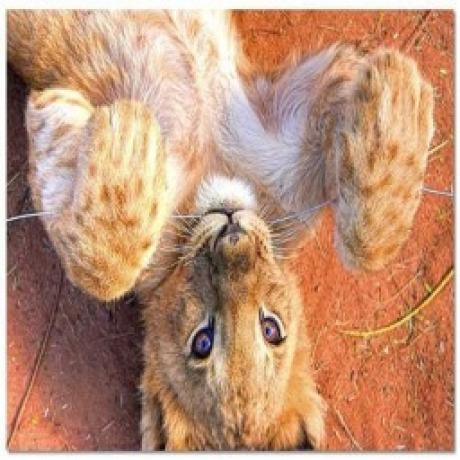Lion: (5, 9, 438, 452)
